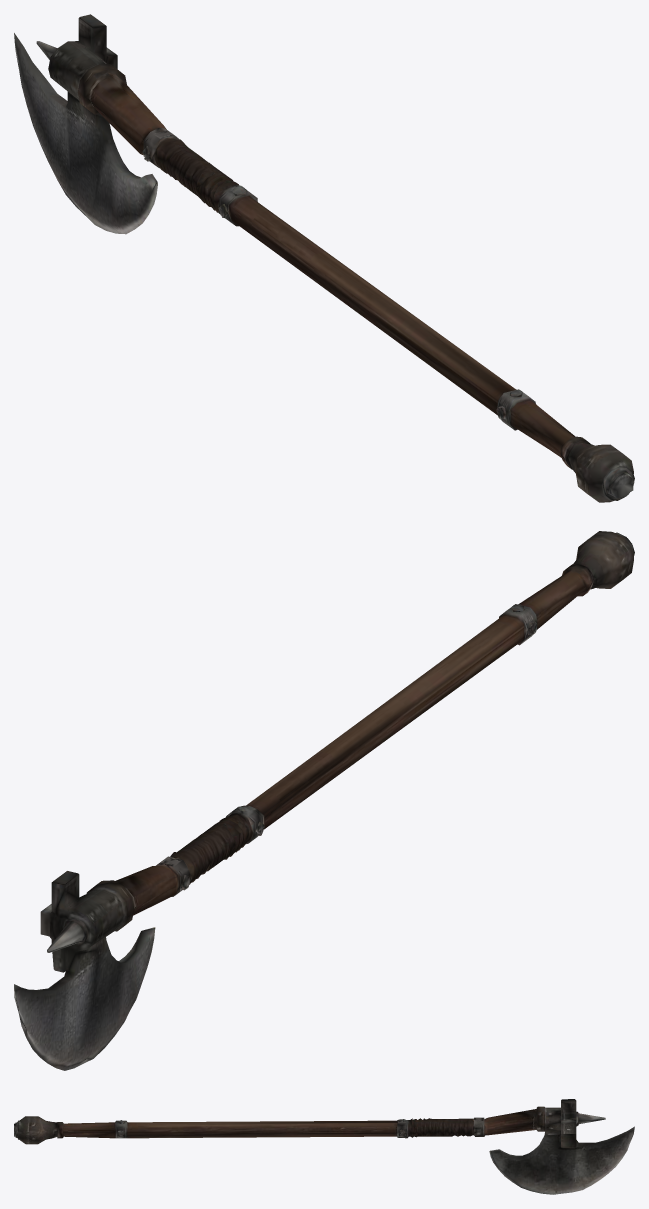
File: poleaxe.glb
3 views of the same model, one above another, from view 1: azimuth 30°, elevation 25°; view 2: azimuth 150°, elevation 25°; view 3: azimuth 270°, elevation 25° (orthographic). The views are drawn at different scales.
Visible parts, largest first — view 1: poleaxe; view 2: poleaxe; view 3: poleaxe.
Boxes of the visible parts, x1,y1,x2,y2 form: poleaxe: (14, 14, 634, 502); poleaxe: (14, 531, 634, 1070); poleaxe: (14, 1099, 634, 1194).
Bounding box in the file's own units: 0.0507 × 0.1641 × 0.9493.
Materials: 1 (1 with a texture image).
